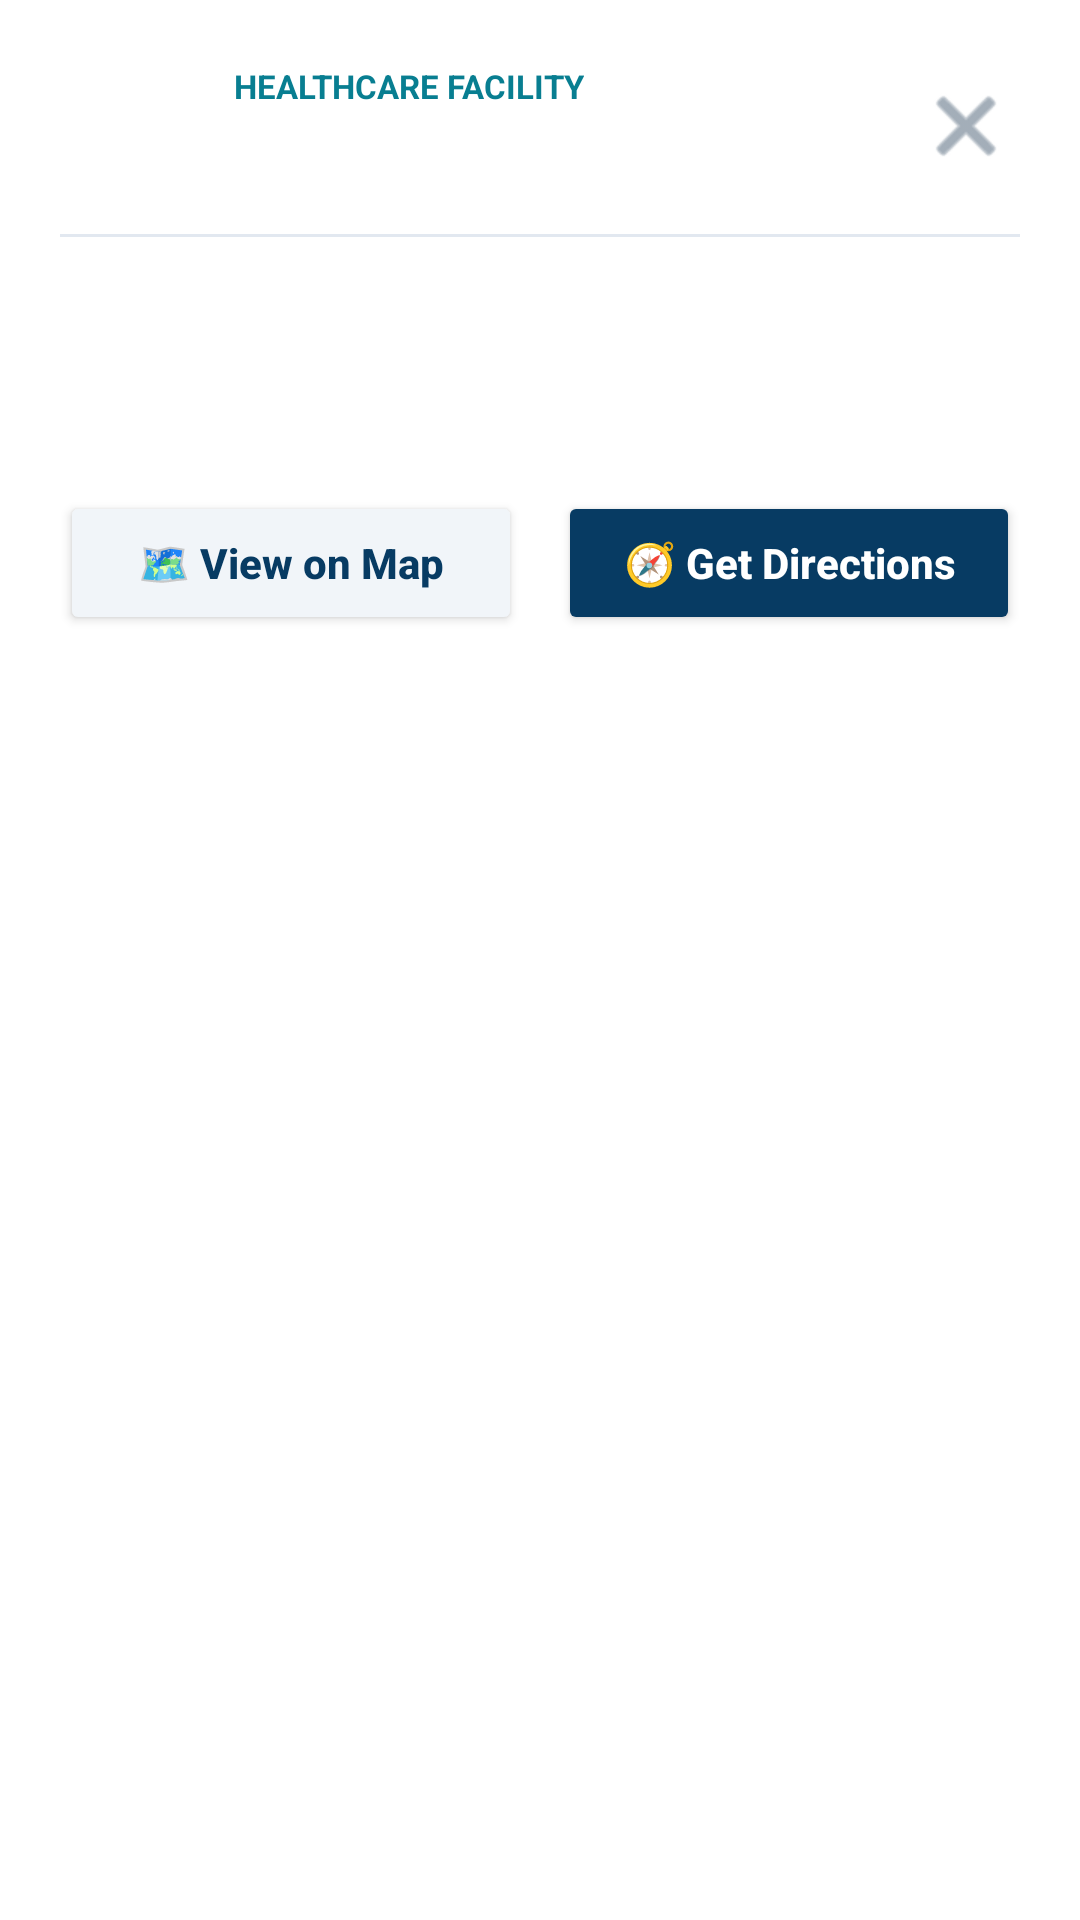

Where icons sit on this 1080 x 1920 app screen, as [x1=x1, y1=y1, x2=x2, y2=y2]:
Close: [x1=936, y1=96, x2=996, y2=156]
